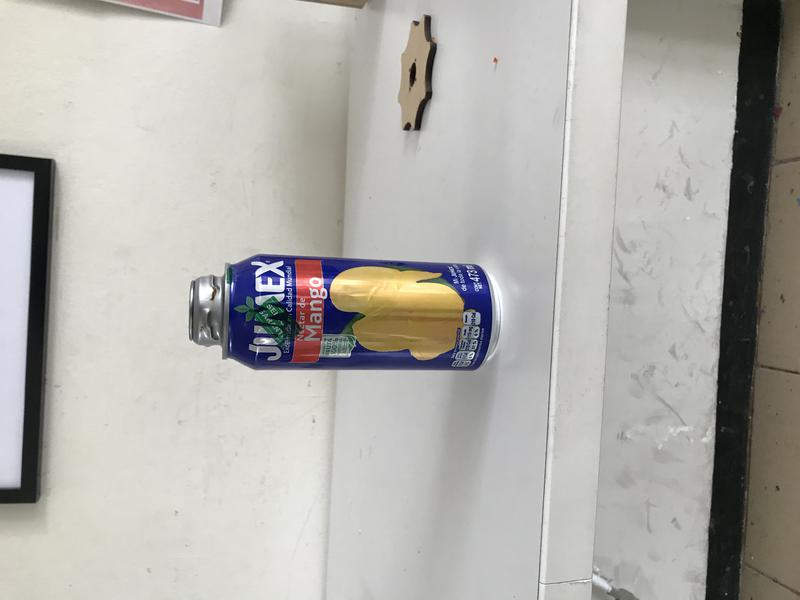jumex_botella: (187, 253, 503, 373)
